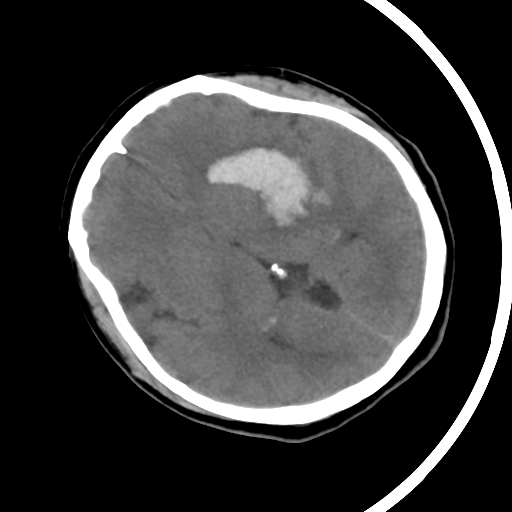a: (192, 132, 342, 244)
